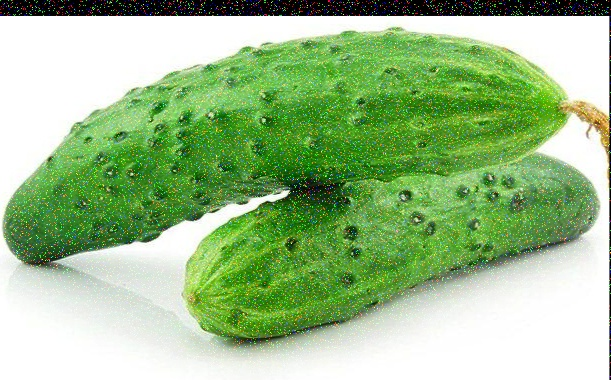cucumber: (12, 19, 571, 260), (201, 156, 594, 330)
